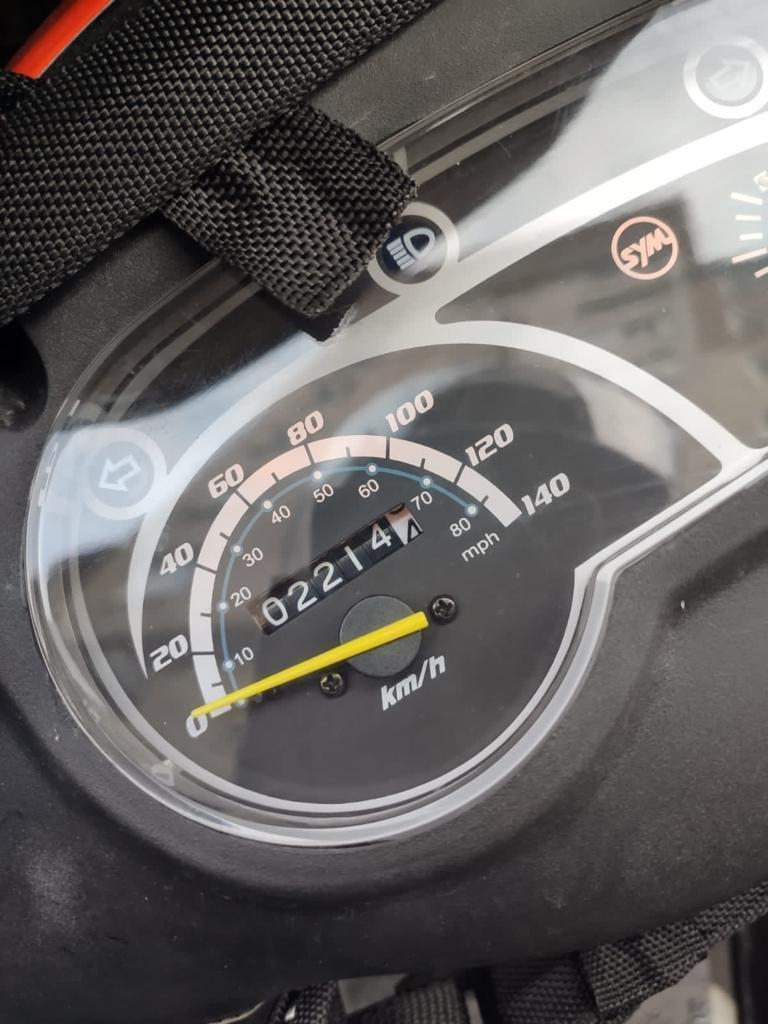0: (258, 596, 288, 629), (251, 547, 265, 562), (279, 505, 292, 520), (240, 585, 253, 600)
1: (342, 541, 365, 575)
2: (285, 581, 317, 613), (311, 563, 342, 594)
3: (243, 553, 255, 568)
4: (368, 521, 395, 555), (402, 518, 423, 548), (269, 509, 282, 527)
7: (410, 494, 421, 513)
odometer: (242, 499, 426, 639)
